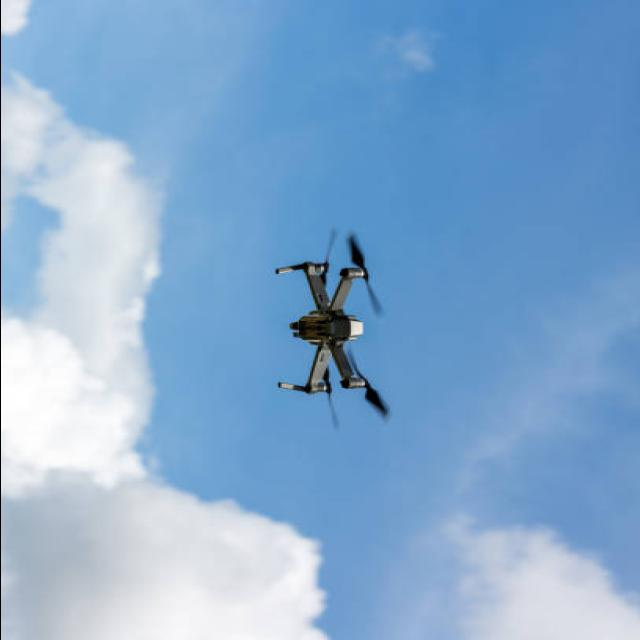drone: (273, 227, 392, 428)
